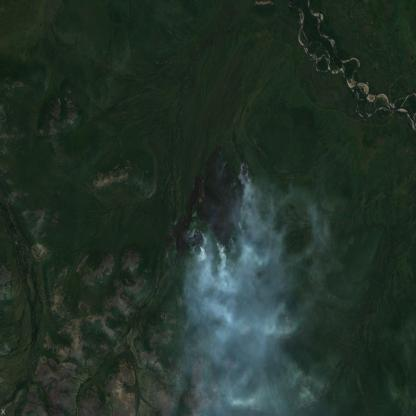fire: (186, 143, 252, 258)
